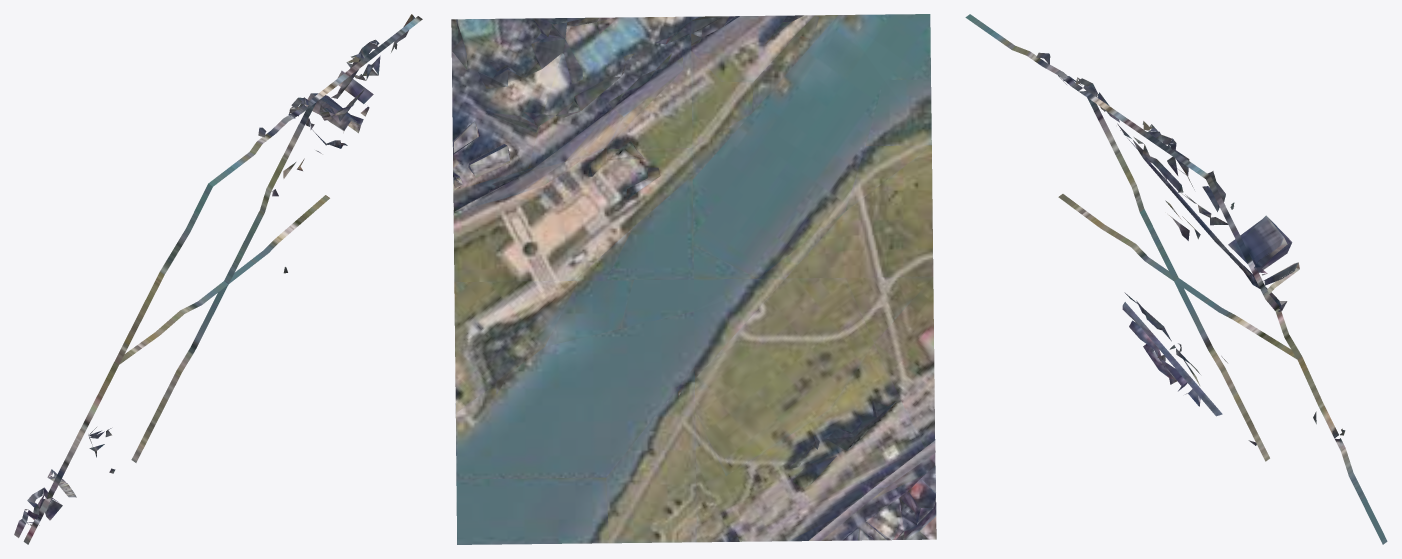
3 views of the same model, side by side, from view 1: azimuth 30°, elevation 25°; view 2: azimuth 150°, elevation 25°; view 3: azimuth 270°, elevation 25° (orthographic). The views are drawn at different scales.
Bounding box in the file's own units: 618 × 562 × 515.
1 material, 1 textured.
